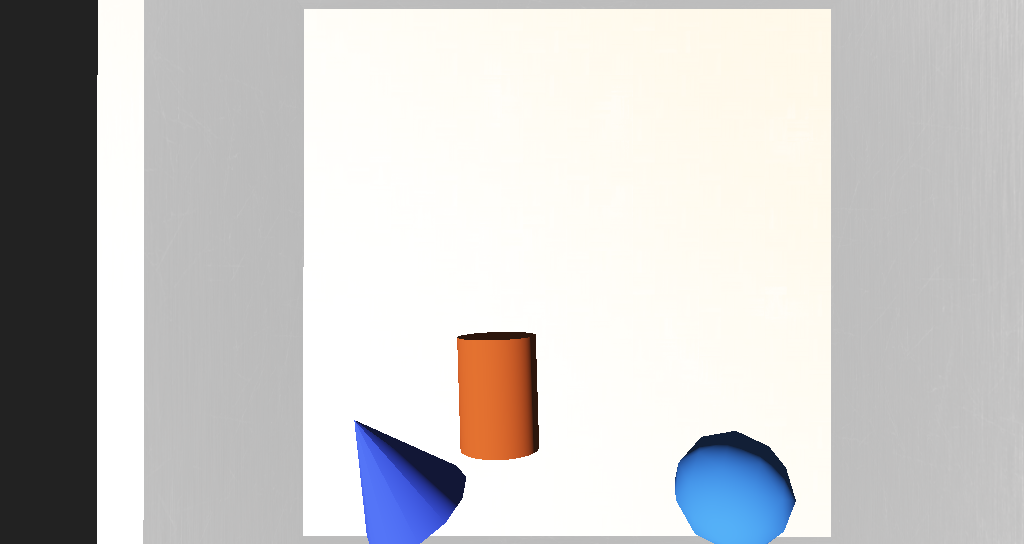cone: (441, 291, 488, 339)
cylinder: (354, 305, 455, 382)
sphere: (559, 332, 627, 375)
